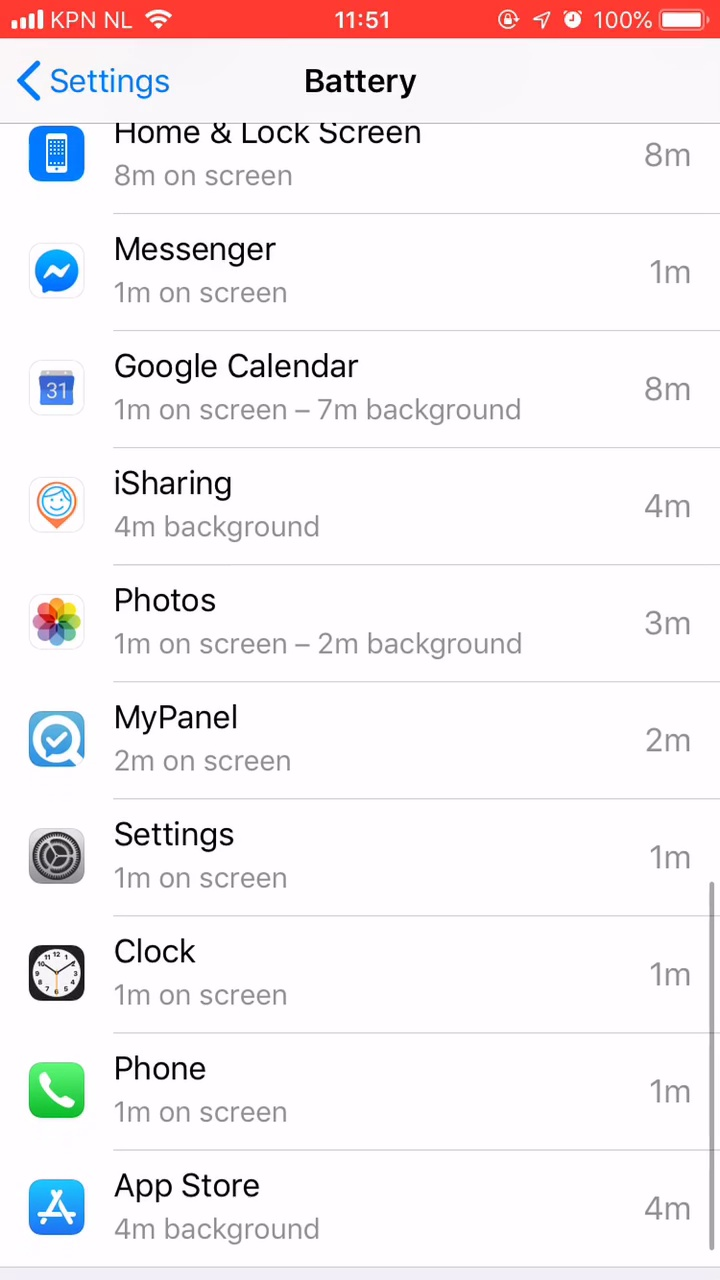app: (37, 220, 703, 308), (35, 339, 701, 427), (38, 462, 704, 550), (34, 576, 700, 664), (28, 698, 694, 786), (23, 817, 689, 905), (28, 934, 694, 1022), (33, 1049, 699, 1137), (29, 1161, 695, 1249)
